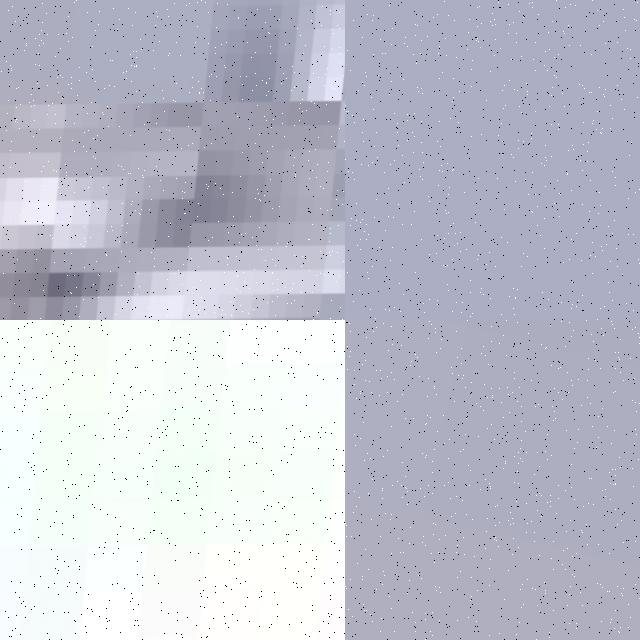drone: (0, 0, 345, 320), (0, 320, 345, 640)
